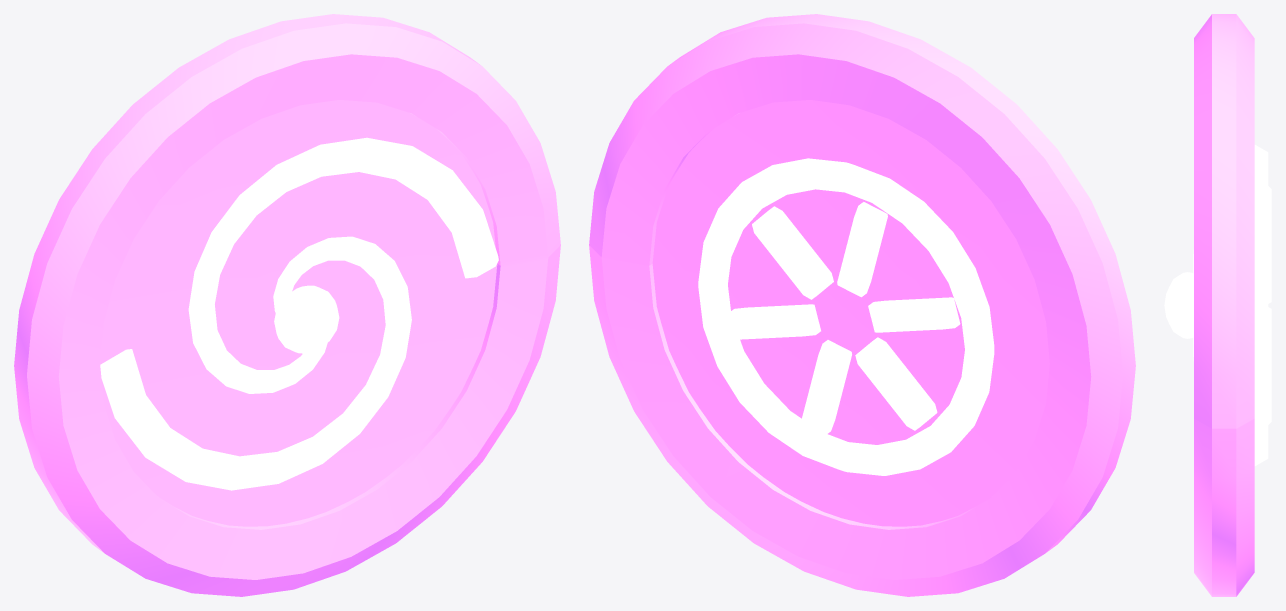
Rendered from vfx-mesh-library-portal-disc-swirl-299a5cd9__21903.glb.
The picture shows the model from 3 angles, left to right: view 1: azimuth 30°, elevation 25°; view 2: azimuth 150°, elevation 25°; view 3: azimuth 270°, elevation 25°; orthographic projection. The views are drawn at different scales.
Parts seen in each view (by area): view 1: portal-disc-swirl; view 2: portal-disc-swirl; view 3: portal-disc-swirl.
Part boxes in pixels (x1,y1,x2,y2): portal-disc-swirl: [14, 14, 560, 596]; portal-disc-swirl: [589, 14, 1135, 596]; portal-disc-swirl: [1164, 14, 1271, 596].
Size of the model in its own units: 0.96 by 0.96 by 0.1765.
